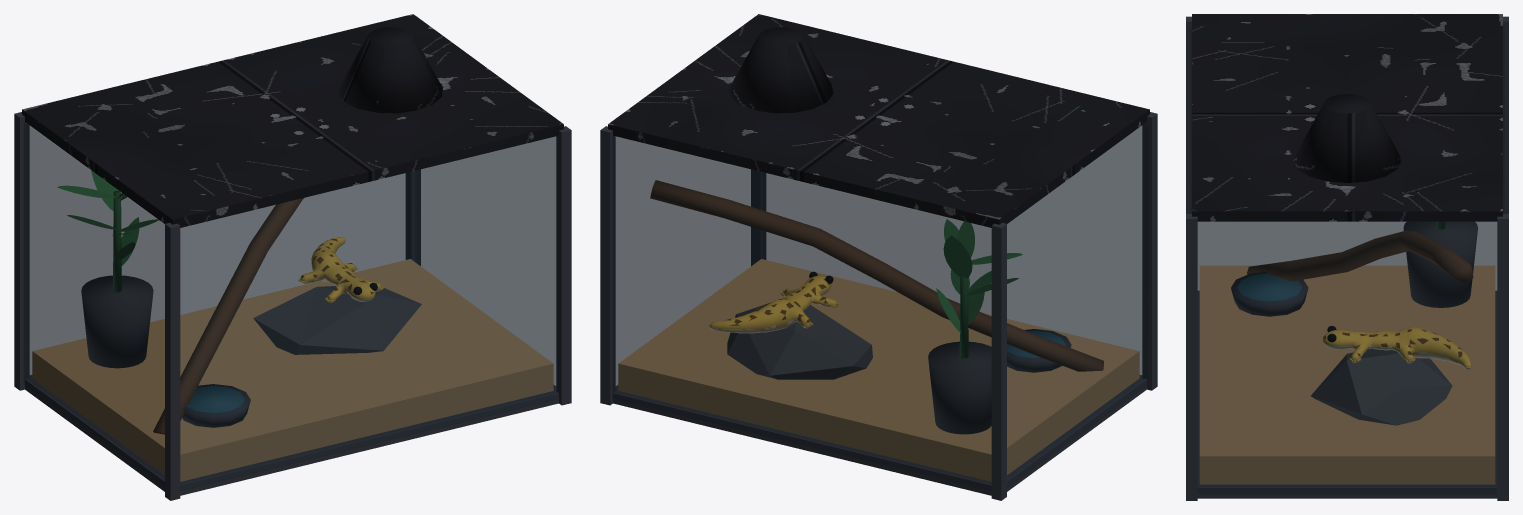
The model's file is Pet_Gecko_Terrarium.001.gltf.
3 views of the same model, side by side, from view 1: azimuth 30°, elevation 25°; view 2: azimuth 150°, elevation 25°; view 3: azimuth 270°, elevation 25° (orthographic). The views are drawn at different scales.
Visible parts, largest first — view 1: Pet_Gecko_Terrarium.001, Gecko.001; view 2: Pet_Gecko_Terrarium.001, Gecko.001; view 3: Pet_Gecko_Terrarium.001, Gecko.001.
Part boxes in pixels (<box>): Pet_Gecko_Terrarium.001: <box>14,14,571,500</box>; Gecko.001: <box>298,237,383,302</box>; Pet_Gecko_Terrarium.001: <box>600,14,1157,500</box>; Gecko.001: <box>709,271,839,333</box>; Pet_Gecko_Terrarium.001: <box>1186,14,1508,500</box>; Gecko.001: <box>1323,326,1471,369</box>.
Bounding box in the file's own units: 0.615 × 0.49 × 0.415.
Materials: 16 (1 with a texture image).
